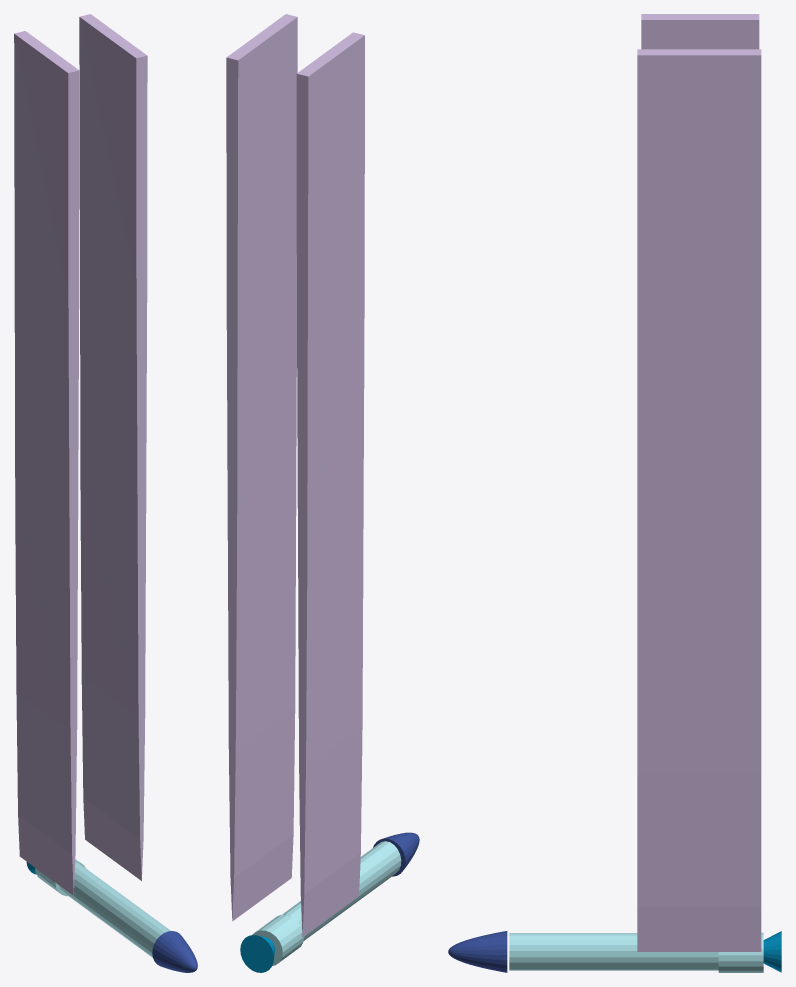
The model's file is tinker.obj.
The picture shows the model from 3 angles, left to right: view 1: azimuth 30°, elevation 25°; view 2: azimuth 150°, elevation 25°; view 3: azimuth 270°, elevation 25°; orthographic projection. The views are drawn at different scales.
Visible parts, largest first — view 1: group_0_13877221, group_0_11593967, group_0_3888547; view 2: group_0_13877221, group_0_11593967, group_0_40919, group_0_3888547; view 3: group_0_13877221, group_0_11593967, group_0_3888547.
Boxes of the visible parts, x1=… form: group_0_13877221: x1=14, y1=14, x2=147, y2=895; group_0_11593967: x1=35, y1=859, x2=170, y2=957; group_0_3888547: x1=152, y1=931, x2=197, y2=972; group_0_13877221: x1=226, y1=14, x2=364, y2=937; group_0_11593967: x1=252, y1=841, x2=401, y2=965; group_0_40919: x1=240, y1=935, x2=275, y2=972; group_0_3888547: x1=373, y1=832, x2=419, y2=876; group_0_13877221: x1=637, y1=14, x2=761, y2=951; group_0_11593967: x1=509, y1=932, x2=763, y2=972; group_0_3888547: x1=448, y1=931, x2=507, y2=972.
Bounding box in the file's own units: 48 × 508 × 164.
